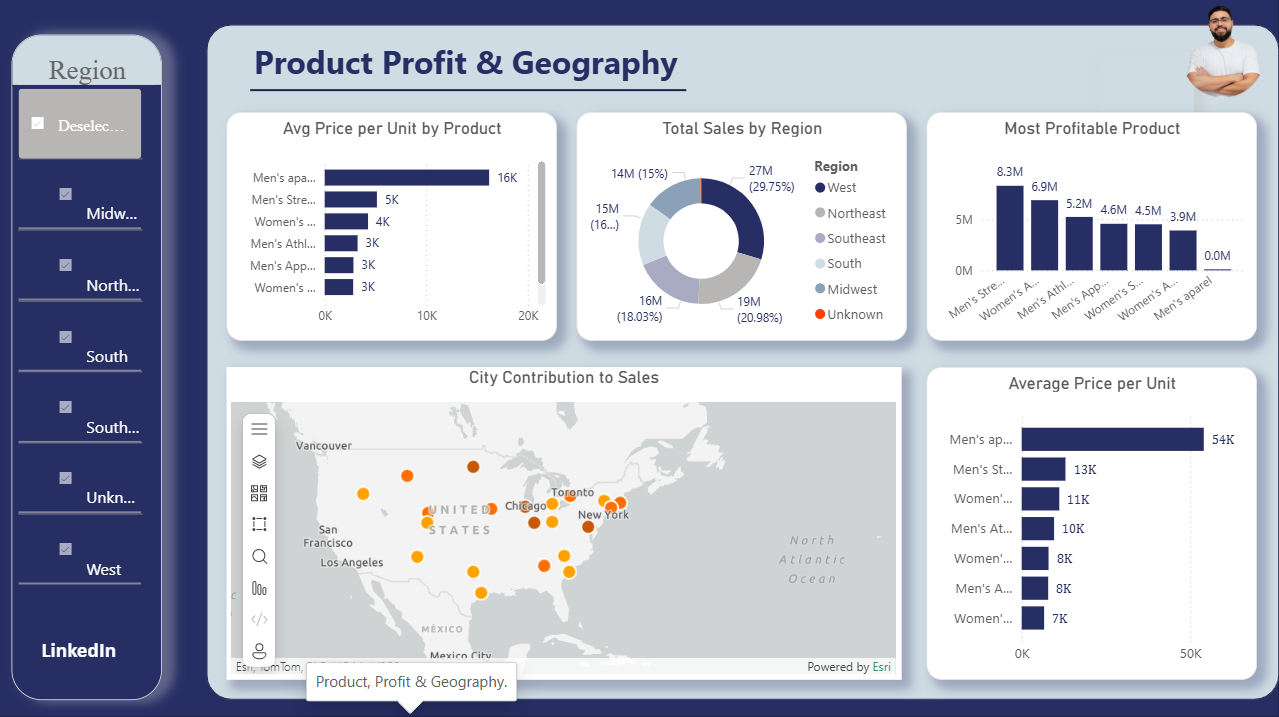

The dashboard page shown, as its layout file describes it:
{"tool":"powerbi","page":{"name":"Product, Profit & Geography.","canvas":[1280,720],"ordinal":2},"visuals":[{"type":"shape","box":[0,0,1280,720],"z":0},{"type":"shape","box":[207.8,27.3,1072.7,675.3],"z":1000},{"type":"clusteredBarChart","title":"Average Price per Unit","fields":{"Category":["cleaned_retail_sales.Product"],"Y":["Avg(cleaned_retail_sales.Total Sales)"]},"box":[927.5,370,330,312.5],"z":2000},{"type":"esriVisual","title":"City Contribution to Sales","fields":{"Color":["cleaned_retail_sales.Total Sales"],"Location":["cleaned_retail_sales.city"]},"box":[227.5,370,675,312.5],"z":3000},{"type":"clusteredBarChart","title":"Avg Price per Unit by Product","fields":{"Category":["cleaned_retail_sales.Product"],"Y":["Avg(cleaned_retail_sales.Operating Profit)"]},"box":[227.5,115,330,228.8],"z":4000},{"type":"donutChart","title":"Total Sales by Region","fields":{"Category":["cleaned_retail_sales.Region"],"Y":["Sum(cleaned_retail_sales.Total Sales)"]},"box":[577.5,115,330,228.8],"z":5000},{"type":"advancedSlicerVisual","title":"Region","fields":{"Values":["cleaned_retail_sales.Region"]},"box":[12,37.5,150,665.3],"z":6000},{"type":"textbox","box":[250,38,678,76],"z":7000},{"type":"shape","box":[251.2,85,436.2,16.2],"z":8000},{"type":"image","box":[1169.2,9,110.6,92.5],"z":9000},{"type":"textbox","box":[1098.7,55.1,96.2,60.3],"z":10000},{"type":"textbox","box":[37.5,635,93.8,47.5],"z":11000},{"type":"clusteredColumnChart","title":"Most Profitable Product","fields":{"Category":["cleaned_retail_sales.Product"],"Y":["Sum(cleaned_retail_sales.Operating Profit)"]},"box":[927.5,115,330,228.8],"z":12000}]}

Visuals, with their boxes in screenshot pixels (x1, y1, x2, y2), scaled from the page's 1280x720 canvas onto the 1279x717 screenshot:
shape: 0 0 1278 716
shape: 208 27 1278 700
"Average Price per Unit" clusteredBarChart: 927 368 1257 680
"City Contribution to Sales" esriVisual: 227 368 902 680
"Avg Price per Unit by Product" clusteredBarChart: 227 115 557 342
"Total Sales by Region" donutChart: 577 115 907 342
"Region" advancedSlicerVisual: 12 37 162 700
textbox: 250 38 927 114
shape: 251 85 687 101
image: 1168 9 1278 101
textbox: 1098 55 1194 115
textbox: 37 632 131 680
"Most Profitable Product" clusteredColumnChart: 927 115 1257 342
